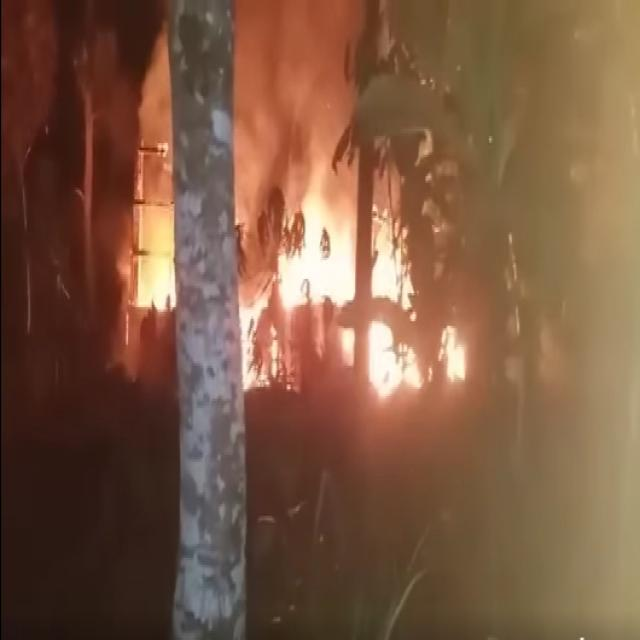Fire: (242, 168, 472, 422), (140, 213, 173, 323)
Smoke: (404, 0, 640, 637)
